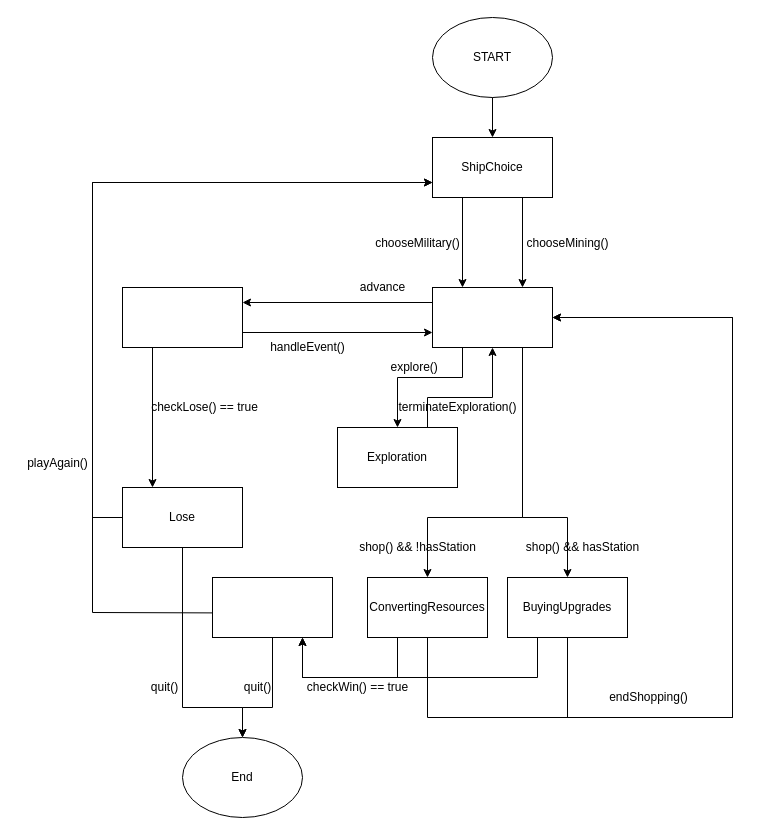
Image size: 758x835. Some labels were removed from this diagram. The box of each missing label's shape, as (x1, y1, x2, y2) in pixels:
ActionChoice: (432, 286, 552, 348)
HandlingEvent: (122, 286, 242, 348)
Win: (212, 576, 332, 638)
